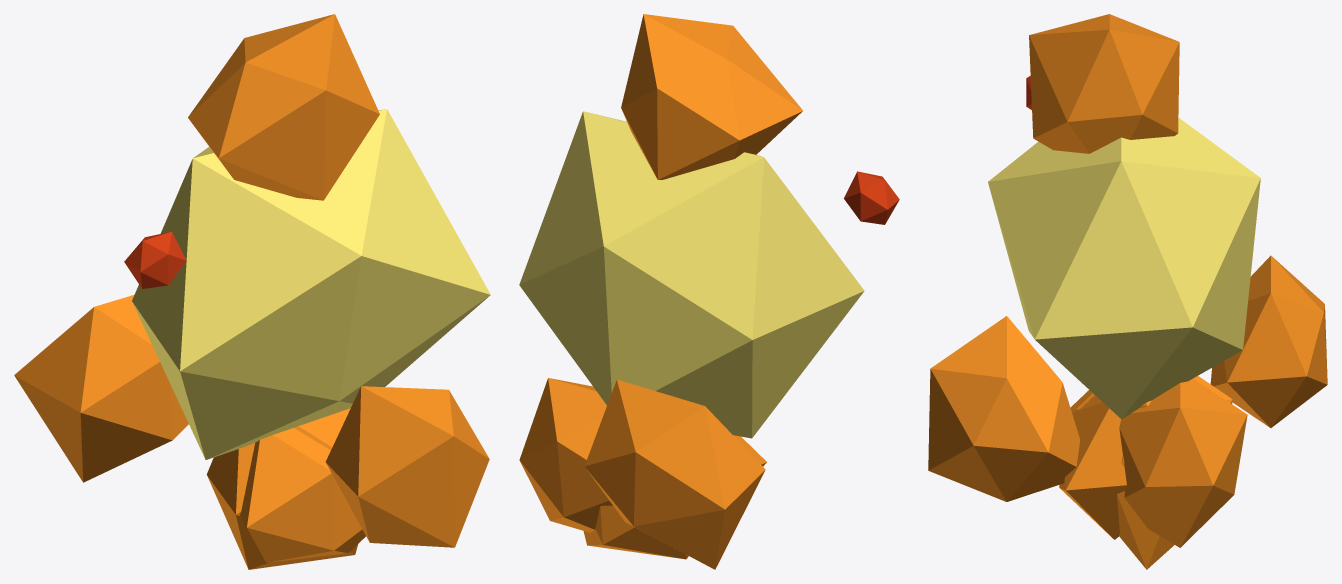
The model's file is frame_6.glb.
3 renders of one model, left to right at view 1: azimuth 30°, elevation 25°; view 2: azimuth 150°, elevation 25°; view 3: azimuth 270°, elevation 25°, orthographic. The views are drawn at different scales.
Parts seen in each view (by area): view 1: effect_explosion_large_frame_6; view 2: effect_explosion_large_frame_6; view 3: effect_explosion_large_frame_6.
Boxes of the visible parts, x1,y1,x2,y2 form: effect_explosion_large_frame_6: (14, 14, 490, 569); effect_explosion_large_frame_6: (519, 14, 899, 569); effect_explosion_large_frame_6: (928, 14, 1327, 569).
Bounding box in the file's own units: 10.46 × 16.06 × 11.13.
